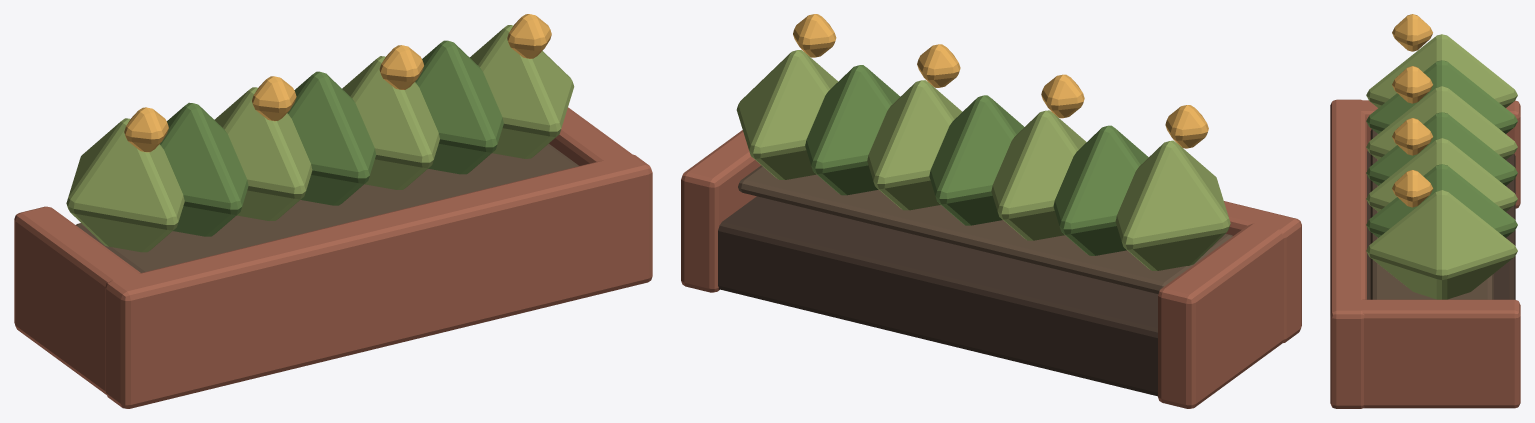
Rendered from attachment_flowerbox__attachments.glb.
3 views of the same model, side by side, from view 1: azimuth 30°, elevation 25°; view 2: azimuth 150°, elevation 25°; view 3: azimuth 270°, elevation 25° (orthographic). The views are drawn at different scales.
Parts seen in each view (by area): view 1: attachment_flowerbox__attachments__mesh_00; view 2: attachment_flowerbox__attachments__mesh_00; view 3: attachment_flowerbox__attachments__mesh_00.
Boxes of the visible parts, left/top/right/bottom form: attachment_flowerbox__attachments__mesh_00: left=14, top=14, right=652, bottom=408; attachment_flowerbox__attachments__mesh_00: left=681, top=14, right=1301, bottom=408; attachment_flowerbox__attachments__mesh_00: left=1330, top=14, right=1520, bottom=408.
Size of the model in its own units: 1.04 by 0.4721 by 0.3875.
